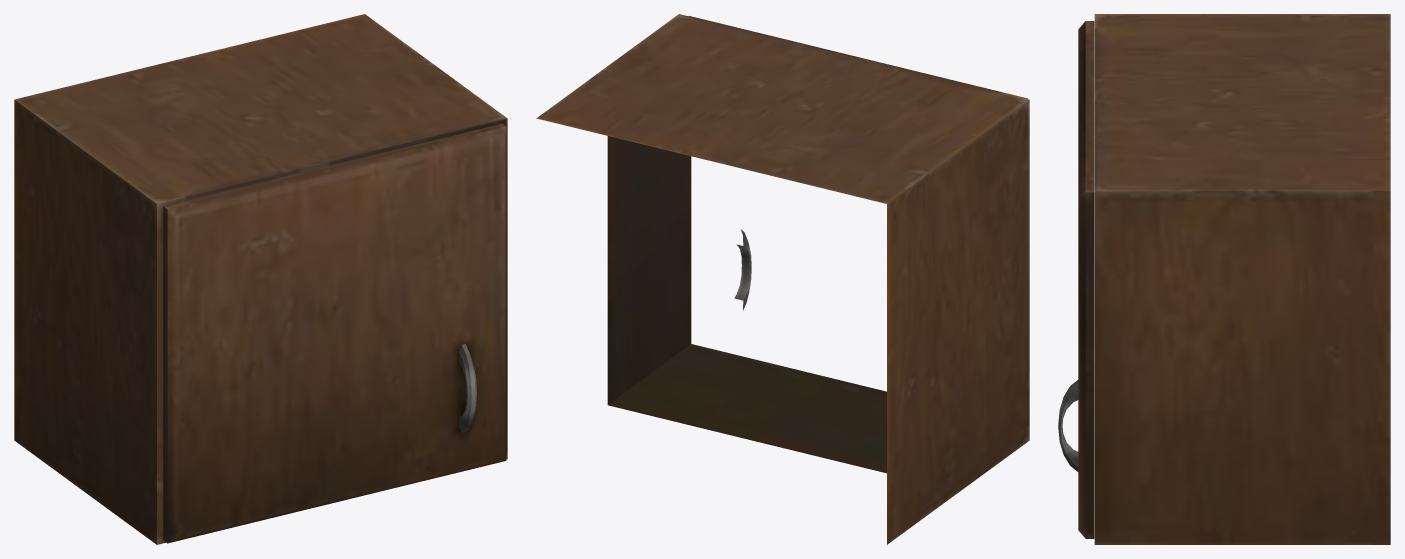
File: large_apartment_kitchen_cupboard_c.glb
3 renders of one model, left to right at view 1: azimuth 30°, elevation 25°; view 2: azimuth 150°, elevation 25°; view 3: azimuth 270°, elevation 25°, orthographic. The views are drawn at different scales.
Visible parts, largest first — view 1: Large_Apartment_Kitchen_Cupboard_C; view 2: Large_Apartment_Kitchen_Cupboard_C; view 3: Large_Apartment_Kitchen_Cupboard_C.
Part boxes in pixels (box(x1,y1,x2,y2)): Large_Apartment_Kitchen_Cupboard_C: box(14, 14, 507, 544); Large_Apartment_Kitchen_Cupboard_C: box(536, 14, 1029, 544); Large_Apartment_Kitchen_Cupboard_C: box(1058, 14, 1390, 544).
Bounding box in the file's own units: 0.75 × 0.6968 × 0.5939.
Materials: 1 (1 with a texture image).
